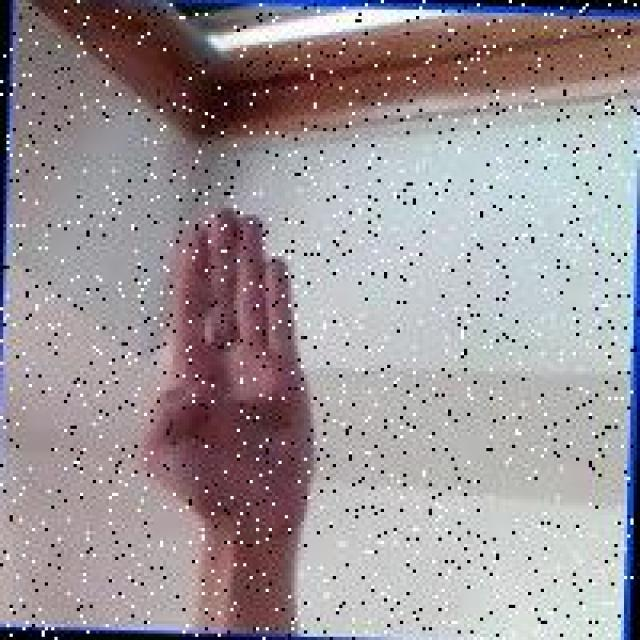B: (139, 200, 325, 546)
